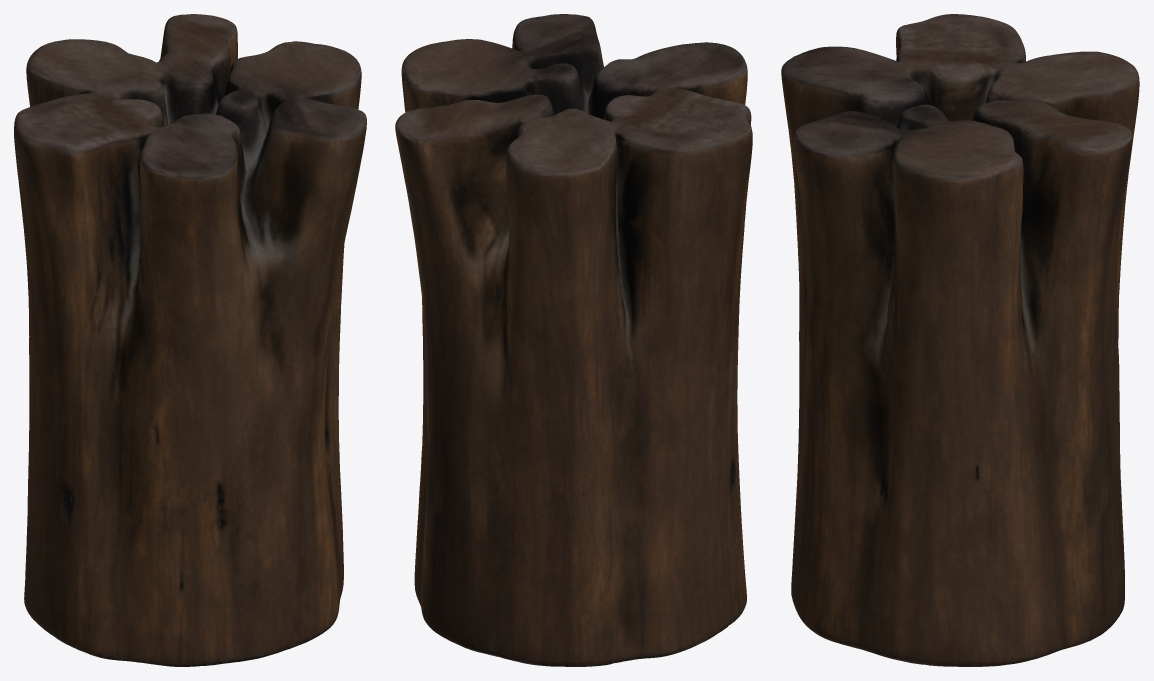
Rendered from item_090cc080.glb.
3 renders of one model, left to right at view 1: azimuth 30°, elevation 25°; view 2: azimuth 150°, elevation 25°; view 3: azimuth 270°, elevation 25°, orthographic.
Visible parts, largest first — view 1: world; view 2: world; view 3: world.
Part boxes in pixels (box(x1,y1,x2,y2)): world: box(14, 14, 366, 666); world: box(395, 14, 752, 666); world: box(781, 14, 1139, 666).
Bounding box in the file's own units: 0.4133 × 0.6 × 0.3812.
Materials: 1 (1 with a texture image).
